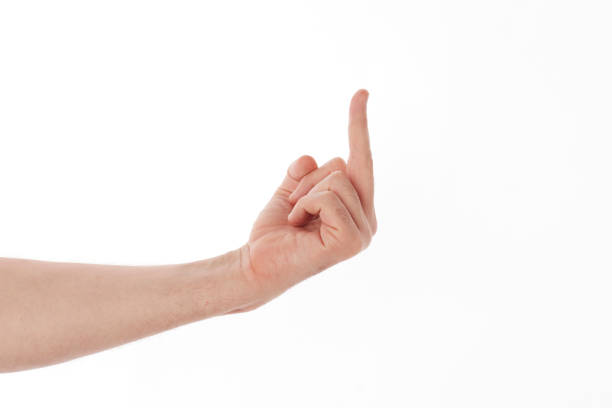insulting_gesture: (252, 86, 378, 294)
